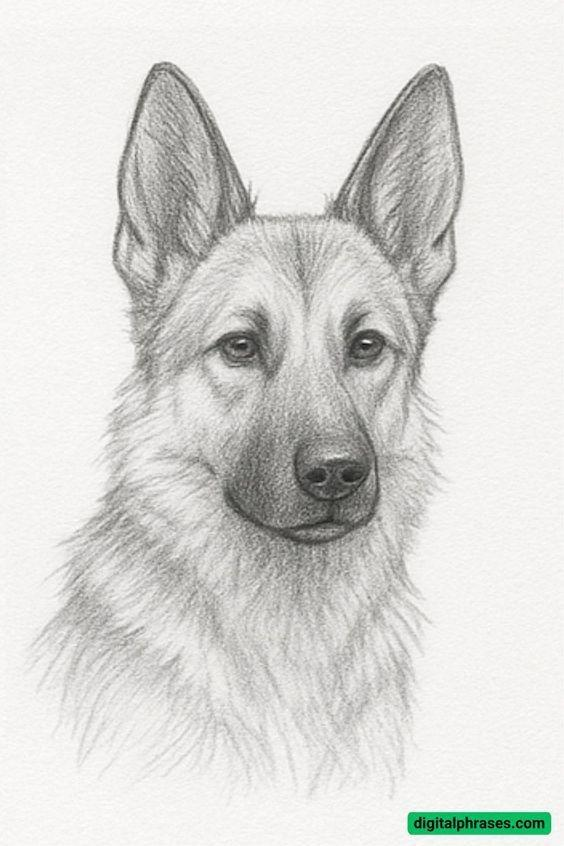adult_dog: (27, 52, 479, 803)
